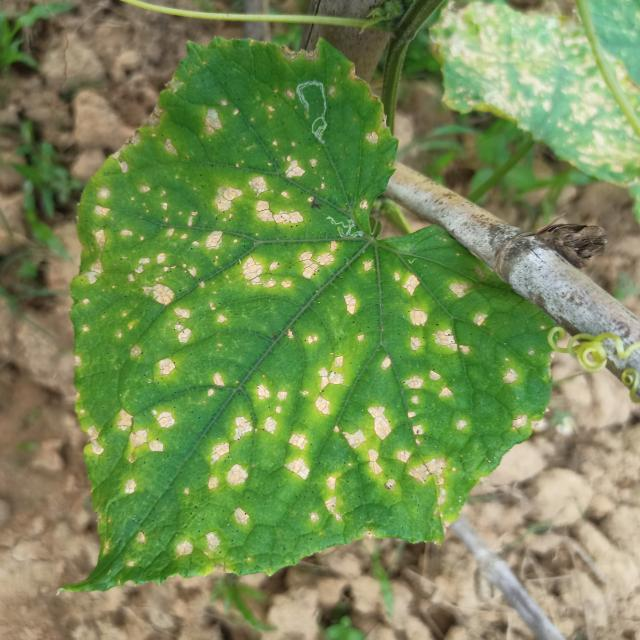disease_cucumber: (78, 63, 516, 563)
